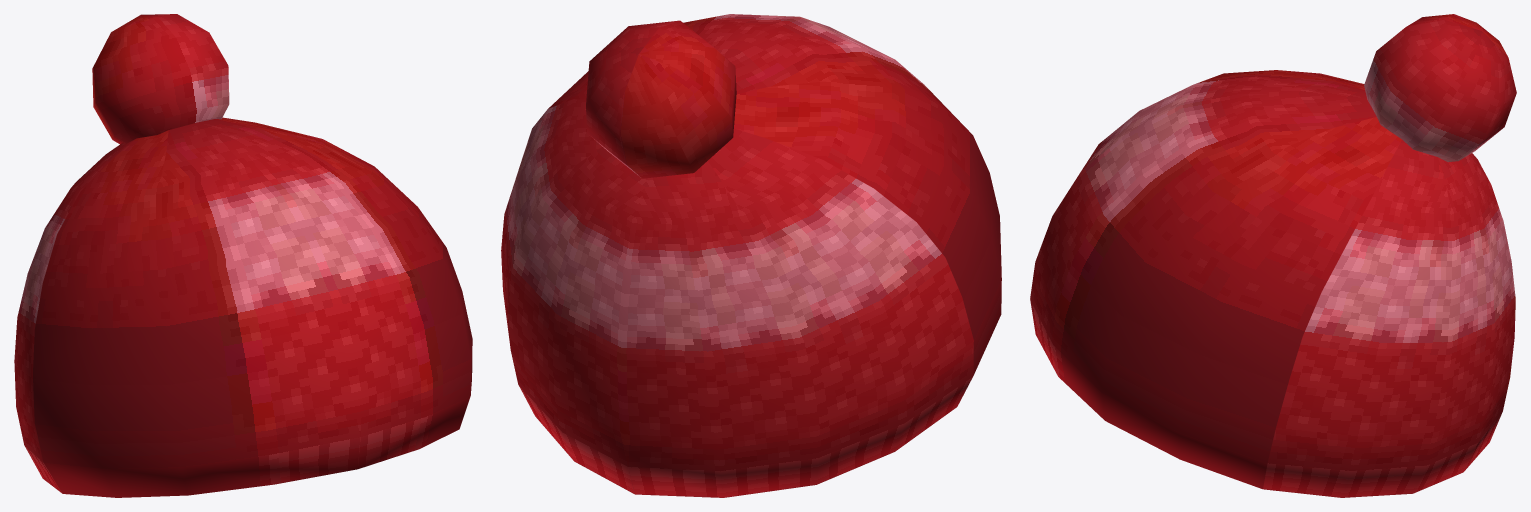
File: F2_Item_Headgear_Knit_S.dae
3 renders of one model, left to right at view 1: azimuth 30°, elevation 25°; view 2: azimuth 150°, elevation 25°; view 3: azimuth 270°, elevation 25°, orthographic. The views are drawn at different scales.
Parts seen in each view (by area): view 1: _0_0_node; view 2: _0_0_node; view 3: _0_0_node.
Part boxes in pixels (x1,y1,x2,y2): _0_0_node: (14,14,472,497); _0_0_node: (501,14,1001,497); _0_0_node: (1030,14,1516,497).
Size of the model in its own units: 1.62 by 1.55 by 1.62.
Materials: 1 (1 with a texture image).
